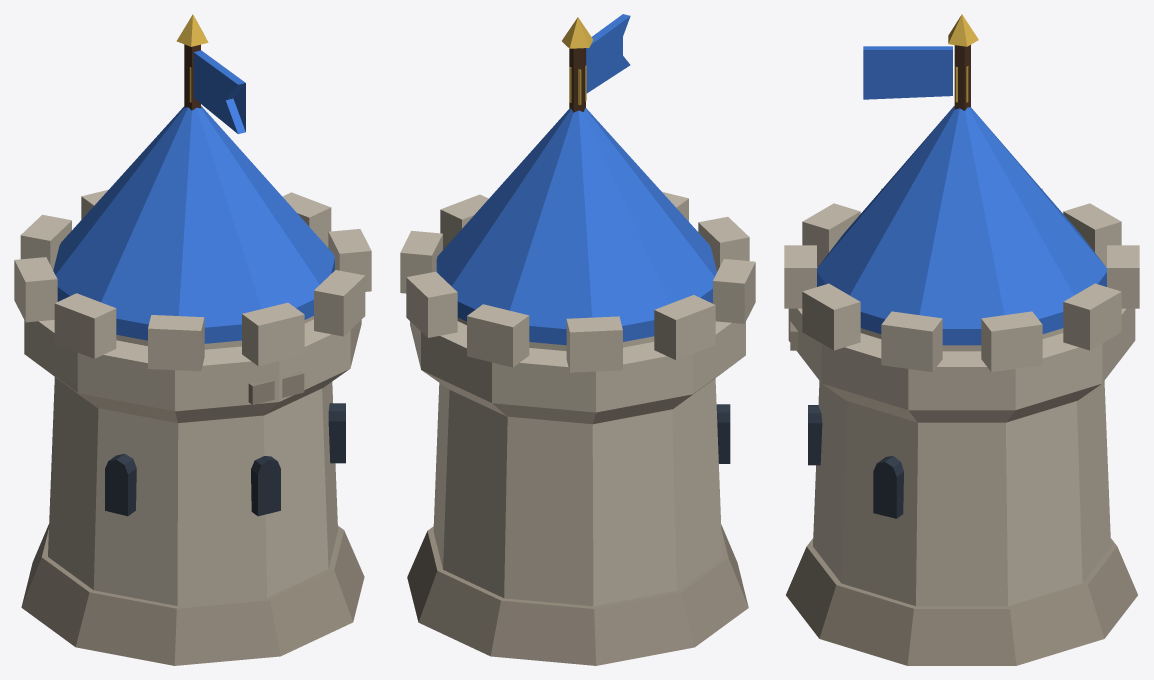
The model's file is wall_tower_1.glb.
3 renders of one model, left to right at view 1: azimuth 30°, elevation 25°; view 2: azimuth 150°, elevation 25°; view 3: azimuth 270°, elevation 25°, orthographic.
Visible parts, largest first — view 1: wall_tower_1; view 2: wall_tower_1; view 3: wall_tower_1.
Part boxes in pixels (bbox=[...]): wall_tower_1: bbox=[14, 14, 371, 665]; wall_tower_1: bbox=[400, 14, 755, 665]; wall_tower_1: bbox=[784, 14, 1139, 665].
Bounding box in the file's own units: 0.2375 × 0.4292 × 0.238.
